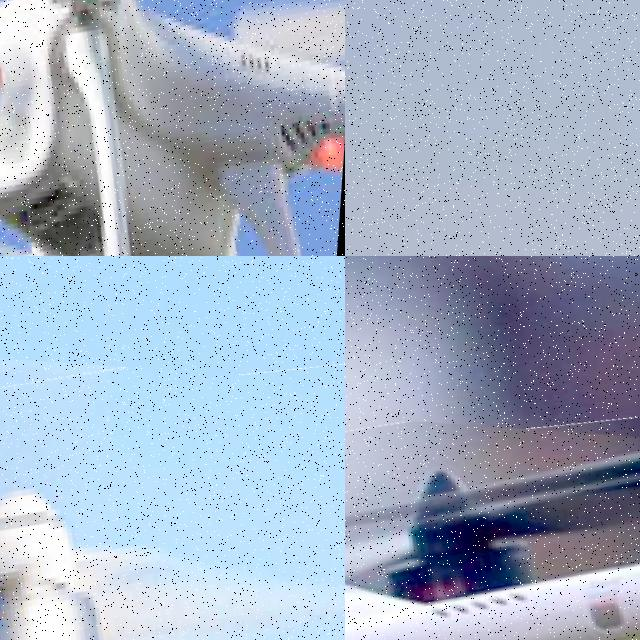drone: (0, 342, 345, 640), (0, 0, 345, 256), (345, 396, 640, 640)
